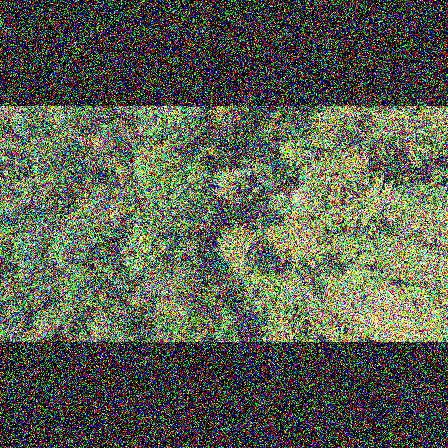Dead: (287, 284, 318, 312)
